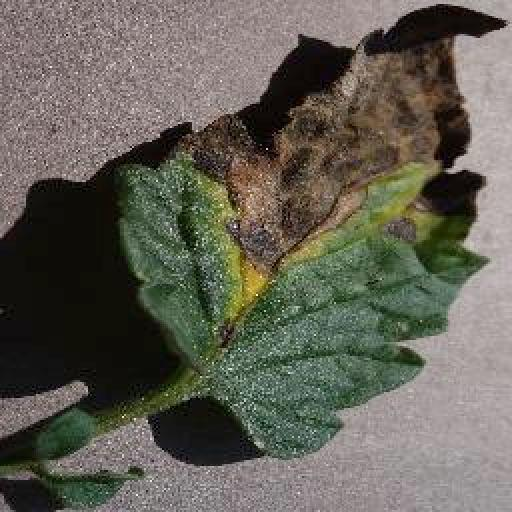disease_tomato: (124, 23, 486, 457)
